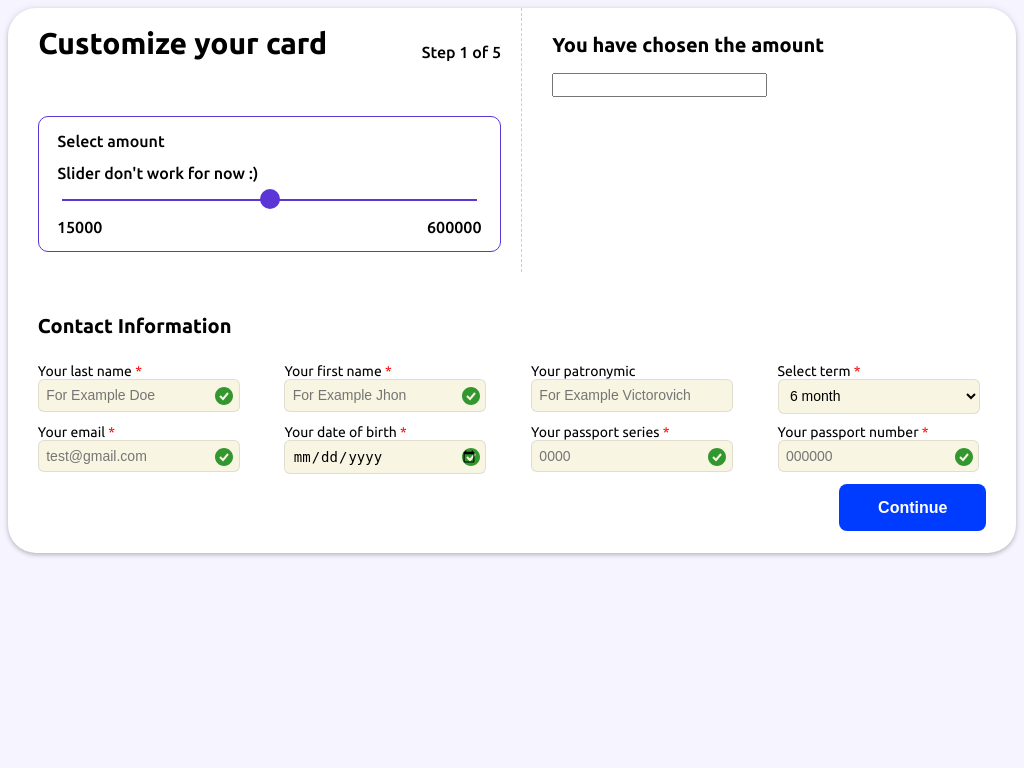
it: Form component › with invalid passport series › renders the passport series validation error
Type "123" into the field labelled "Your passport series *" at (632, 456), box [531, 440, 733, 472]
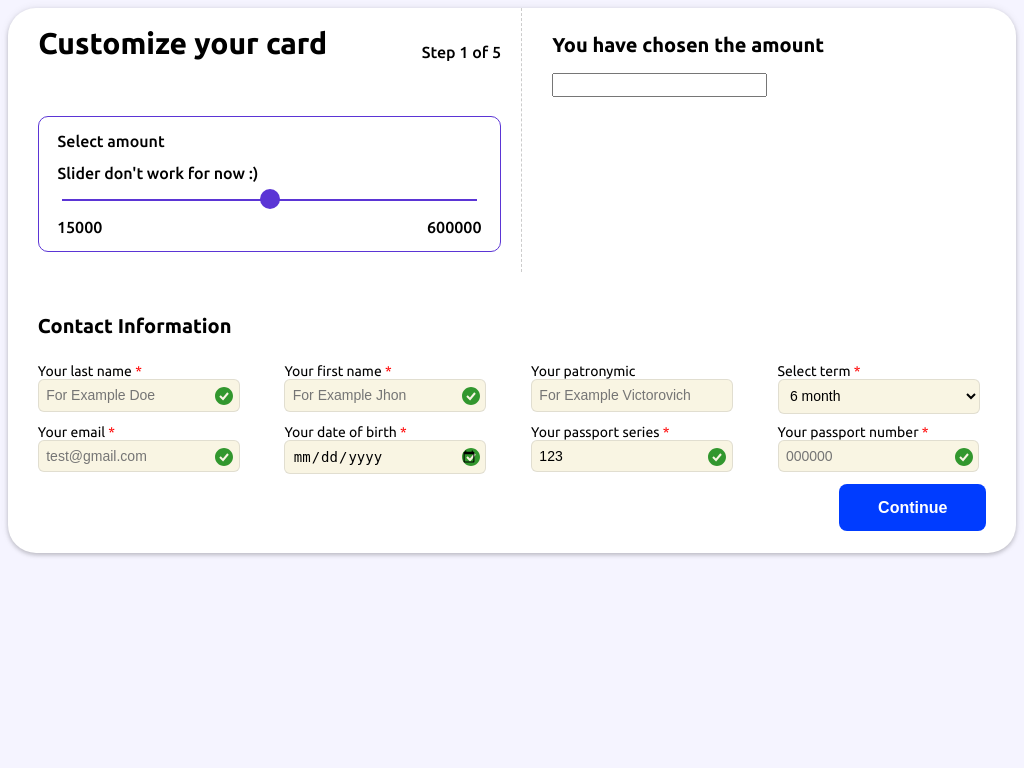
Leave the field labelled "Your passport series *", box [531, 440, 733, 472]
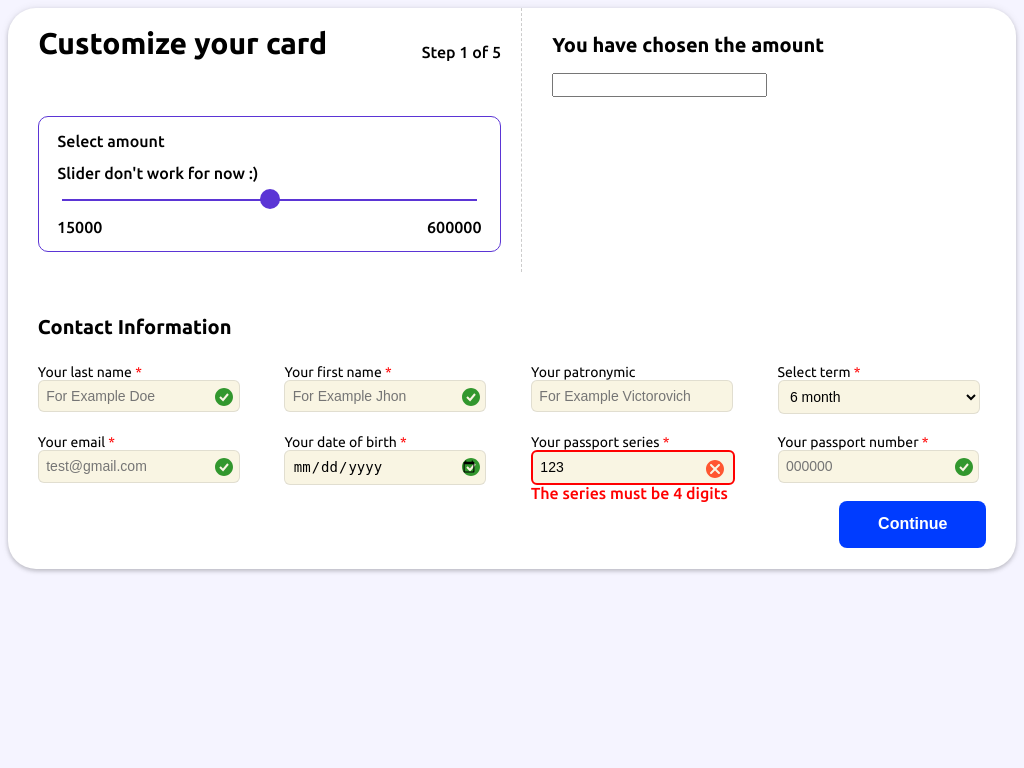
Check: the text "The series must be 4 digits" is shown, box [531, 484, 728, 502]
